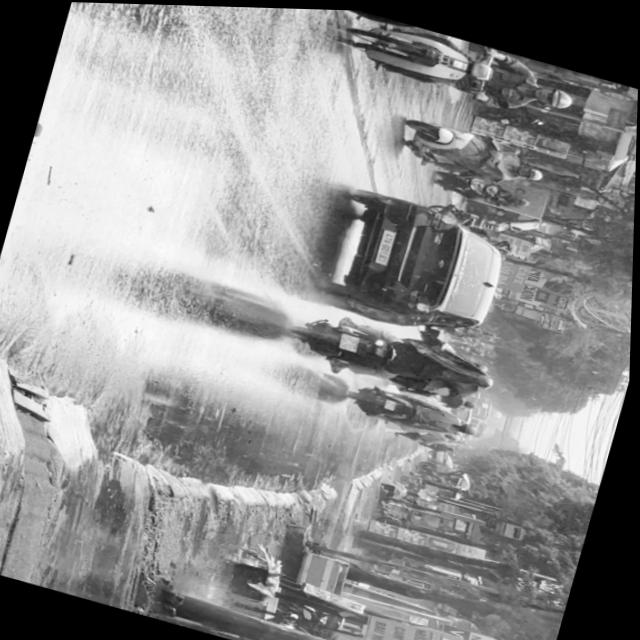helmet: (531, 77, 575, 107), (516, 159, 546, 179)
licenseplate: (336, 8, 583, 124), (288, 299, 514, 414), (392, 109, 553, 193)
nohelmet: (339, 330, 361, 350)
